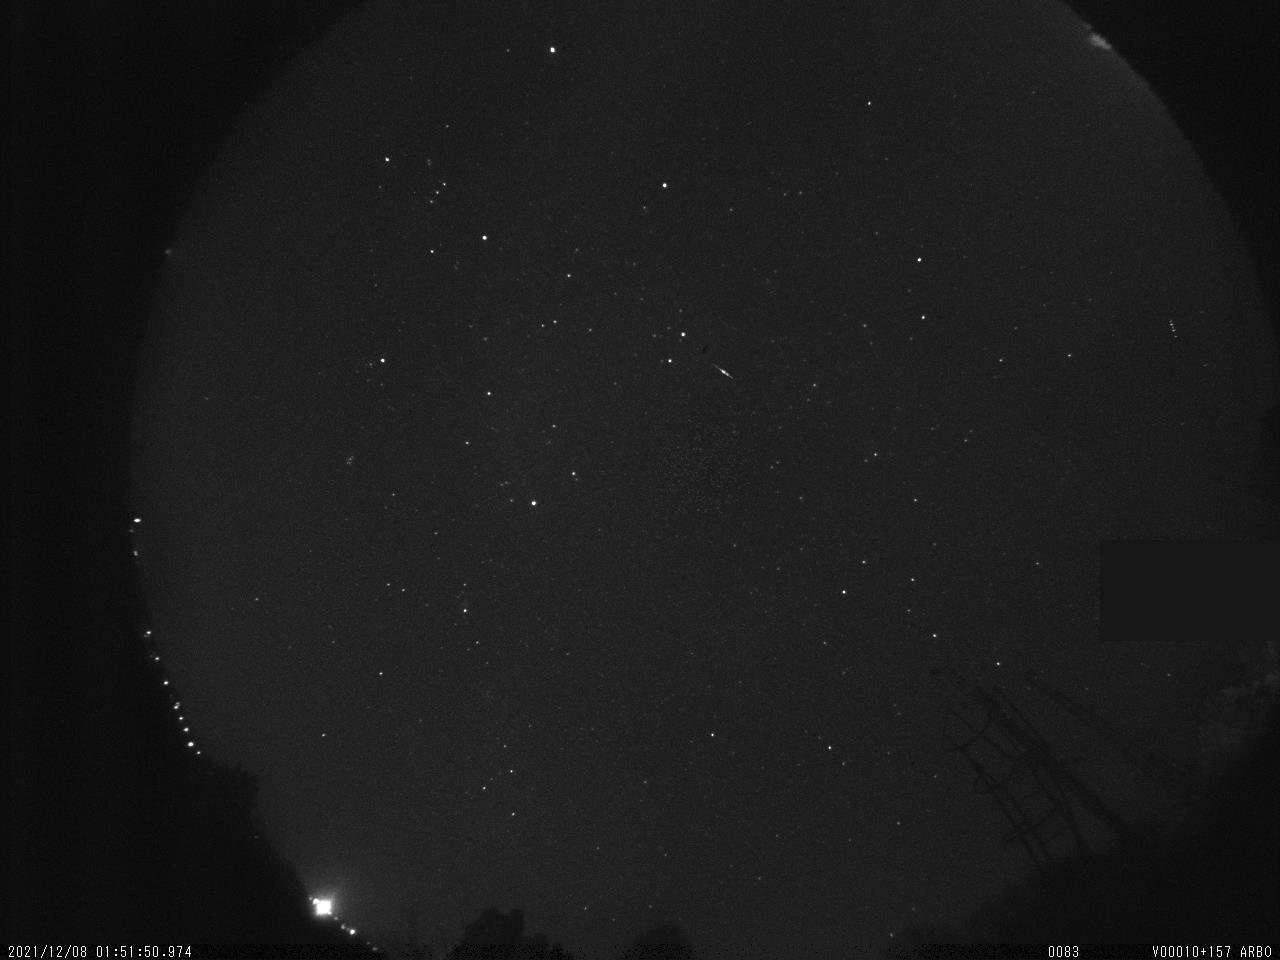meteor: (705, 354, 739, 387)
